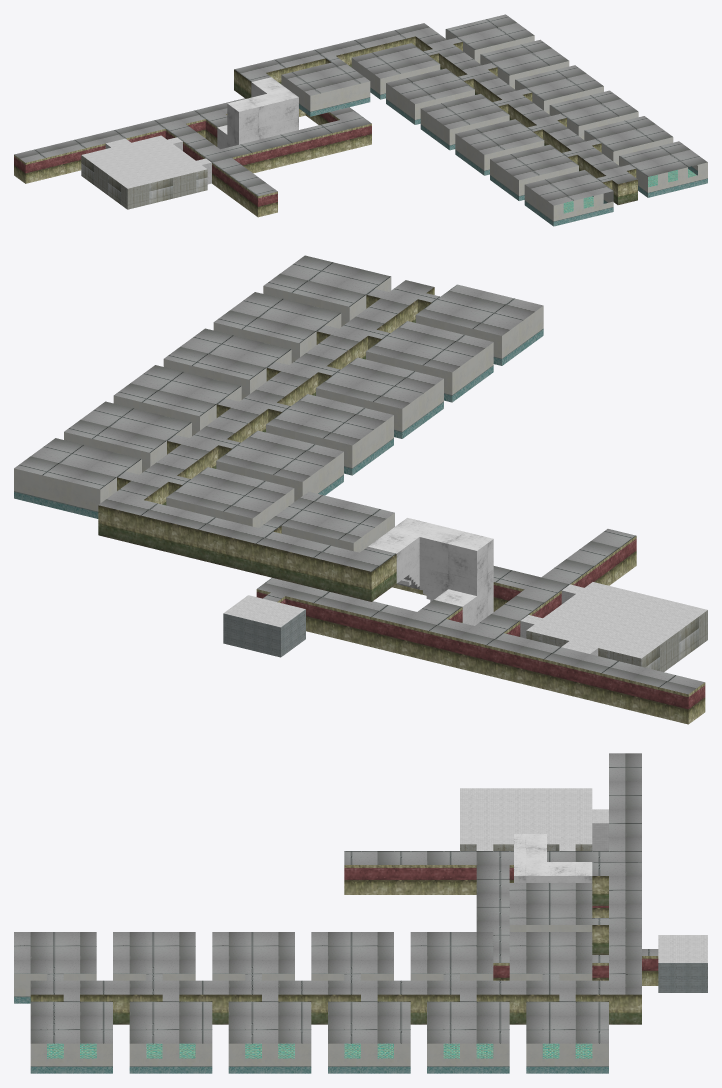
File: corridor.obj
3 views of the same model, one above another, from view 1: azimuth 30°, elevation 25°; view 2: azimuth 150°, elevation 25°; view 3: azimuth 270°, elevation 25° (orthographic). The views are drawn at different scales.
Parts seen in each view (by area): view 1: $dummy_node; view 2: $dummy_node; view 3: $dummy_node.
Part boxes in pixels (x1,y1,x2,y2): $dummy_node: (14,14,707,226); $dummy_node: (14,255,707,724); $dummy_node: (14,753,707,1073).
Bounding box in the file's own units: 48 × 5 × 42.
